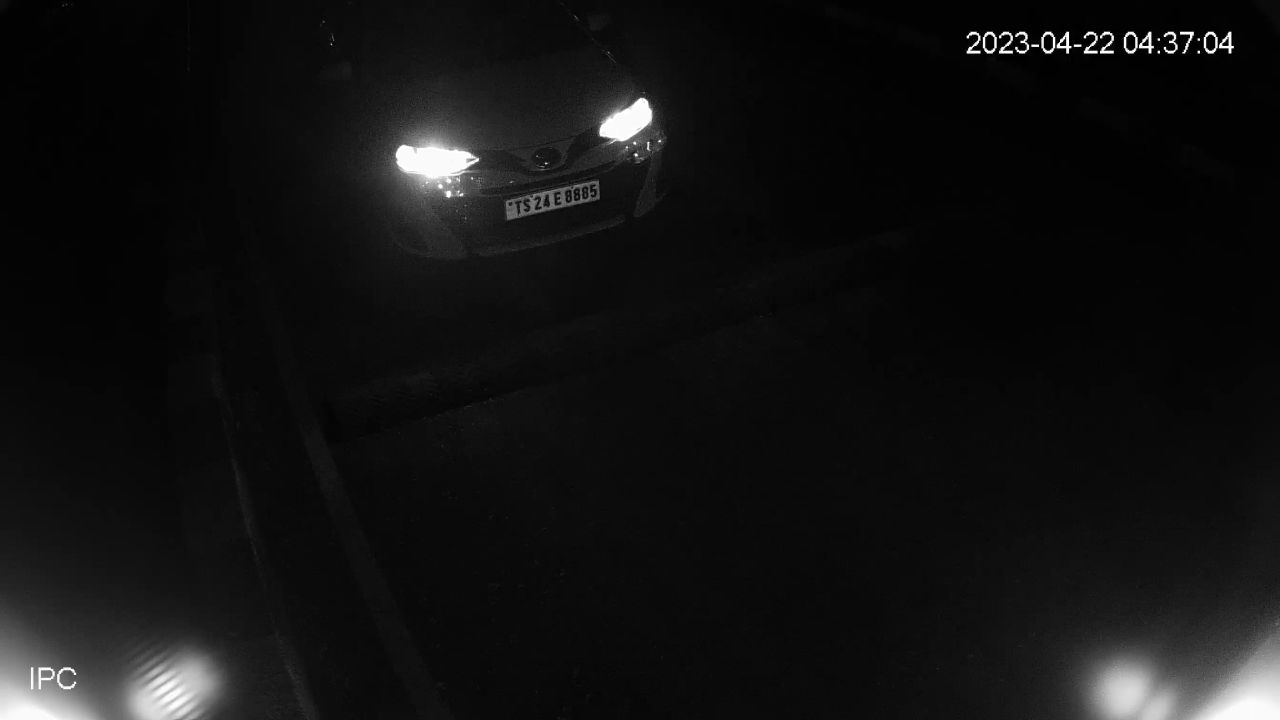license_plate: (500, 174, 607, 229)
